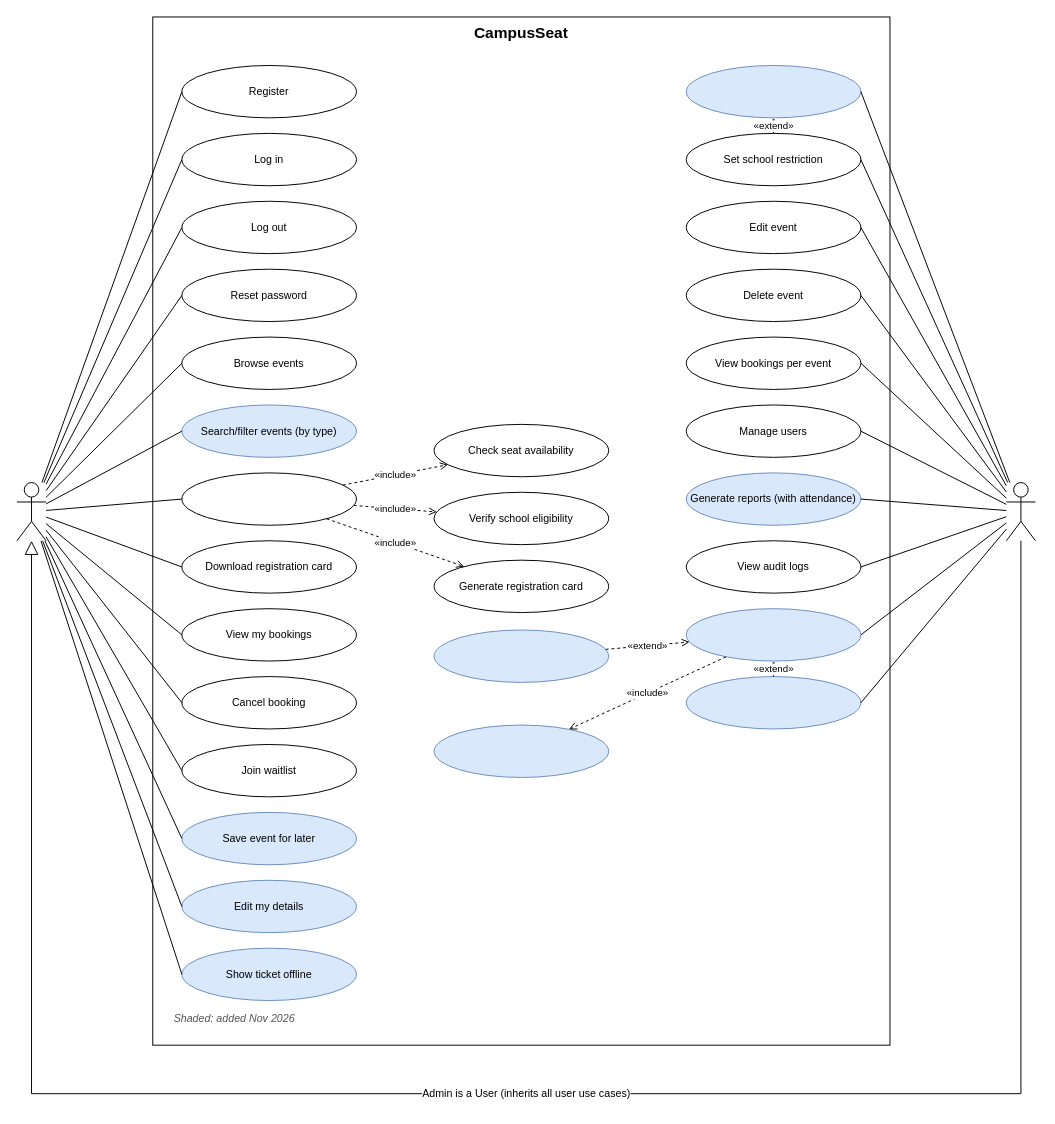
Some shapes in this 1055 by 1124 pixel diagram are drawn without their labels. Here are the shapes that lost their labels. From the top down, the centre of each, then its label:
At (773,91): "Create event (with type)".
At (31,511): "User".
At (268,498): "Book a seat".
At (1020,511): "Admin".
At (773,634): "Check in attendee".
At (521,655): "Scan QR code".
At (773,702): "Undo check-in".
At (521,750): "Verify booking, event and time window".
